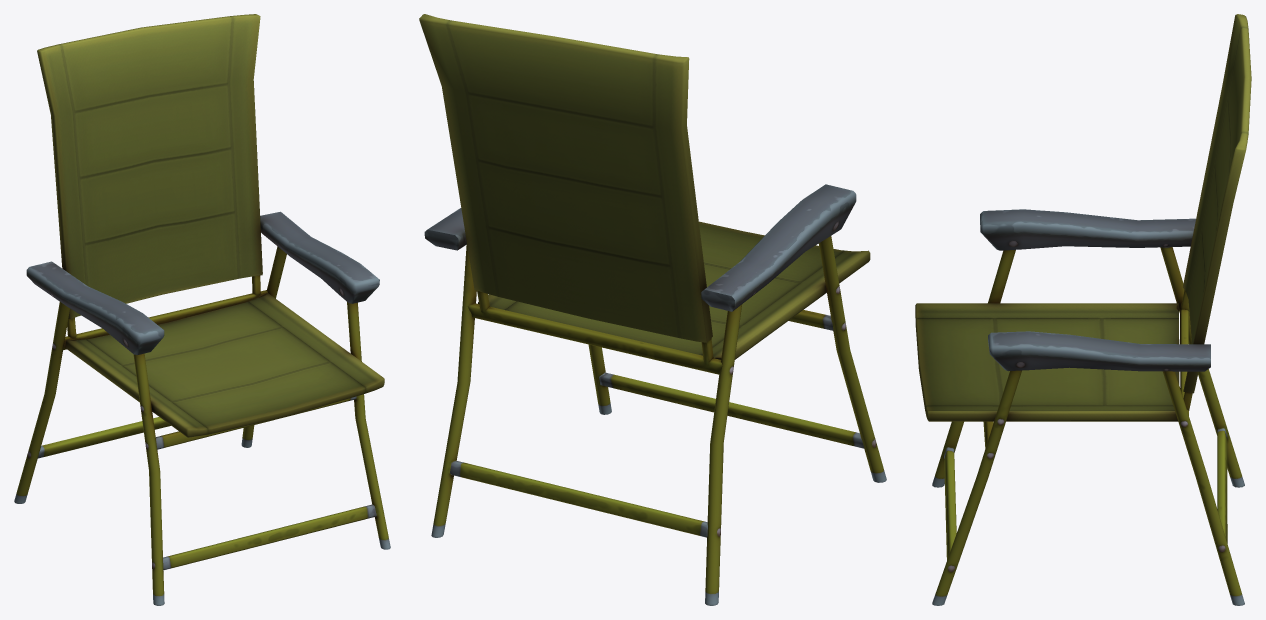
File: Chair02_2.FBX
3 views of the same model, side by side, from view 1: azimuth 30°, elevation 25°; view 2: azimuth 150°, elevation 25°; view 3: azimuth 270°, elevation 25° (orthographic). The views are drawn at different scales.
Visible parts, largest first — view 1: Chair02_2; view 2: Chair02_2; view 3: Chair02_2.
Boxes of the visible parts, x1,y1,x2,y2 form: Chair02_2: (14, 14, 390, 605); Chair02_2: (419, 14, 886, 605); Chair02_2: (915, 14, 1251, 605).
Size of what is drawn, in the model's own units: 0.683 by 1.13 by 0.7175.
